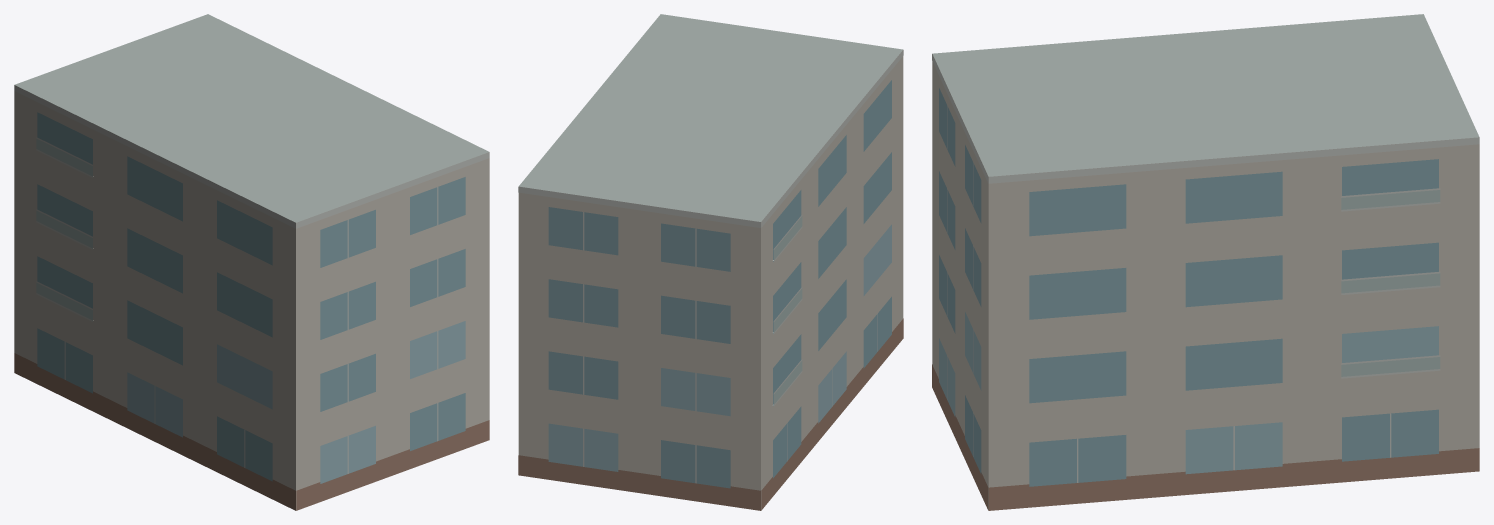
The model's file is survey-upis-32965544.glb.
The picture shows the model from 3 angles, left to right: view 1: azimuth 30°, elevation 25°; view 2: azimuth 150°, elevation 25°; view 3: azimuth 270°, elevation 25°; orthographic projection. The views are drawn at different scales.
Parts seen in each view (by area): view 1: survey-upis-32965544.tmp; view 2: survey-upis-32965544.tmp; view 3: survey-upis-32965544.tmp.
Boxes of the visible parts, x1,y1,x2,y2 form: survey-upis-32965544.tmp: [14, 14, 489, 510]; survey-upis-32965544.tmp: [518, 14, 903, 510]; survey-upis-32965544.tmp: [932, 14, 1479, 510].
Bounding box in the file's own units: 12.24 × 11.7 × 17.39.
